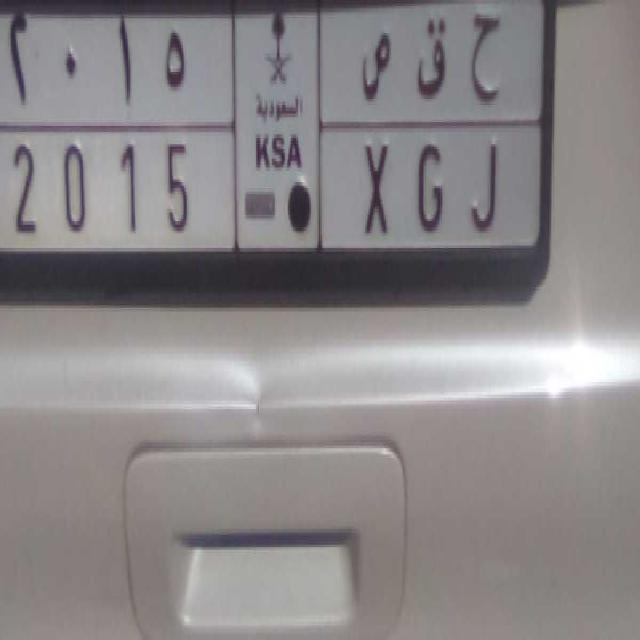license_plate: (1, 120, 522, 271)
